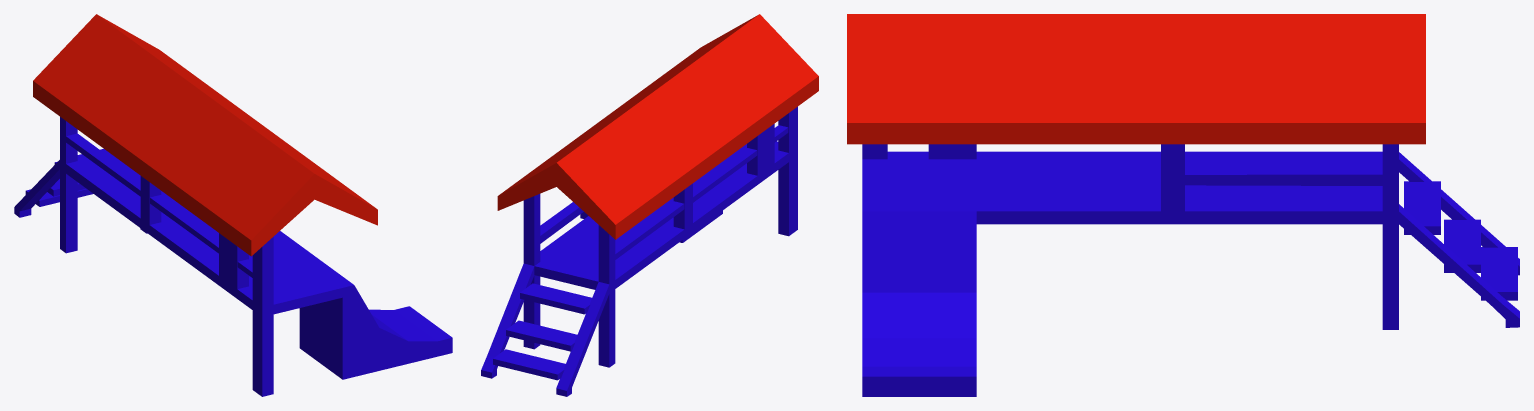
File: parque infantil .fbx
3 views of the same model, side by side, from view 1: azimuth 30°, elevation 25°; view 2: azimuth 150°, elevation 25°; view 3: azimuth 270°, elevation 25° (orthographic). The views are drawn at different scales.
Visible parts, largest first — view 1: Cube; view 2: Cube; view 3: Cube.
Boxes of the visible parts, bbox=[...] form: Cube: bbox=[14, 14, 452, 396]; Cube: bbox=[481, 14, 818, 396]; Cube: bbox=[847, 14, 1519, 396].
Size of the model in its own units: 595 by 600 by 1262.
